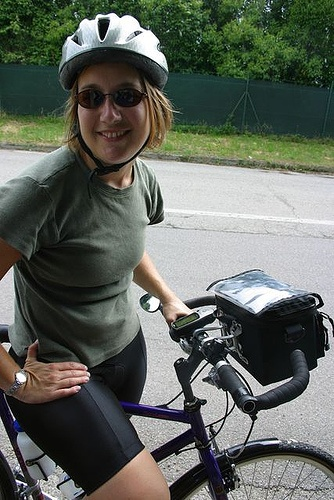head: (63, 27, 167, 165)
person: (1, 10, 214, 500)
